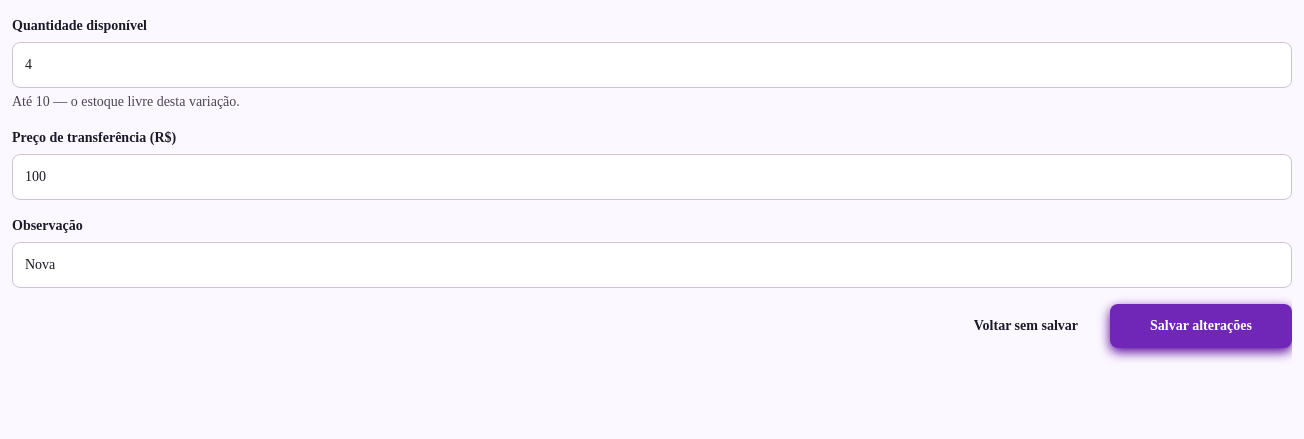
Scenario: EditOfferForm (VES-89) › sends the edited fields and keeps them when the action fails
Replace the text in the number field labelled "Preço de transferência (R$)" with "80": (652, 177) [12,154,1292,200]
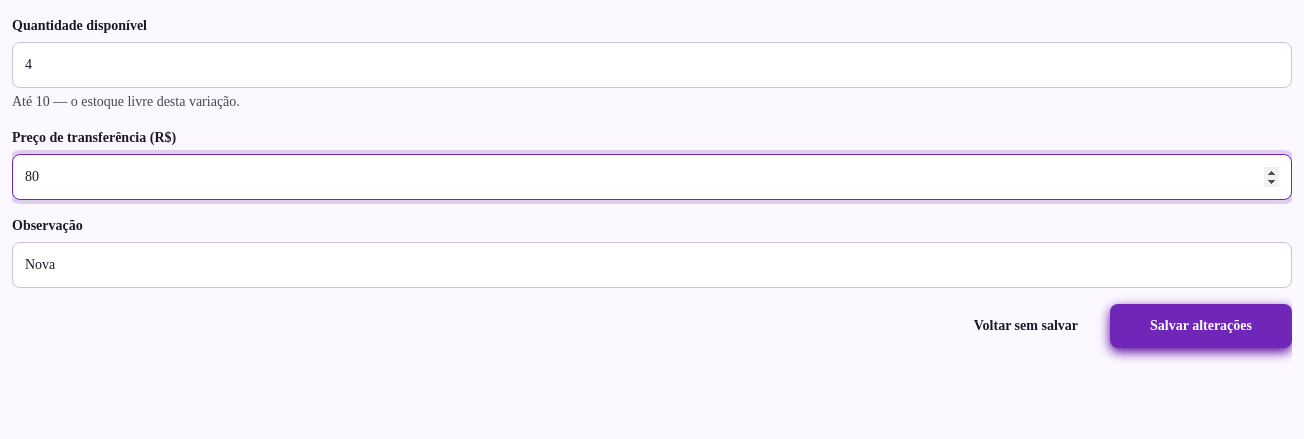
Click the button "Salvar alterações": (1201, 326) [1110,304,1292,348]
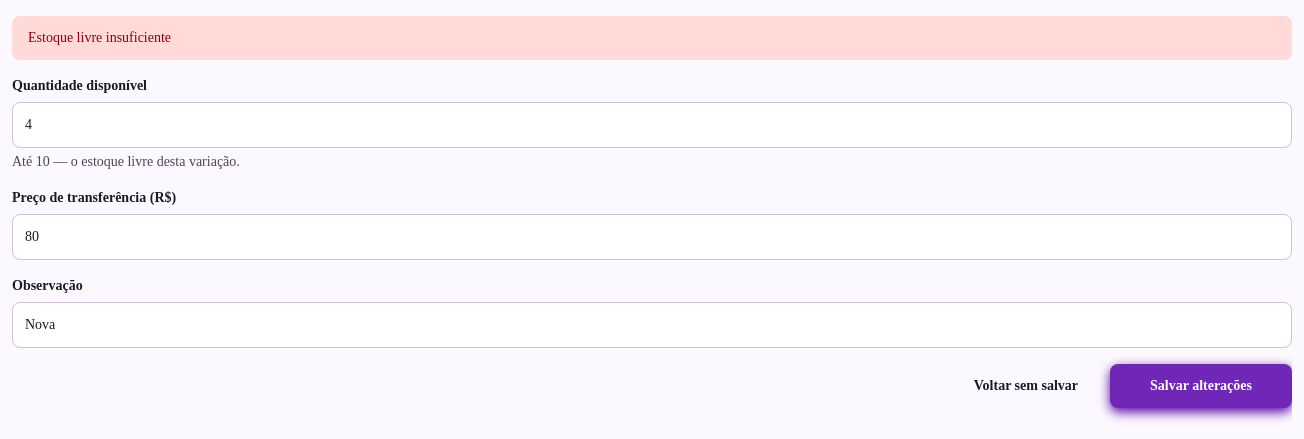
Now the message reads "Estoque livre insuficiente", box [28,30,171,45]
